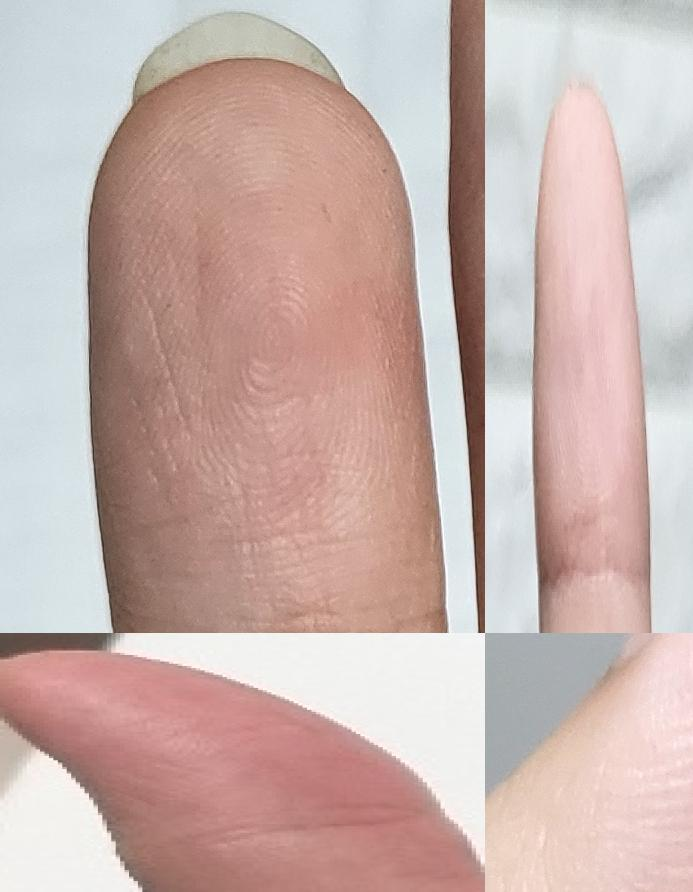Fingerprints: (85, 57, 448, 633), (0, 650, 444, 843), (534, 84, 650, 585), (506, 633, 693, 892)
